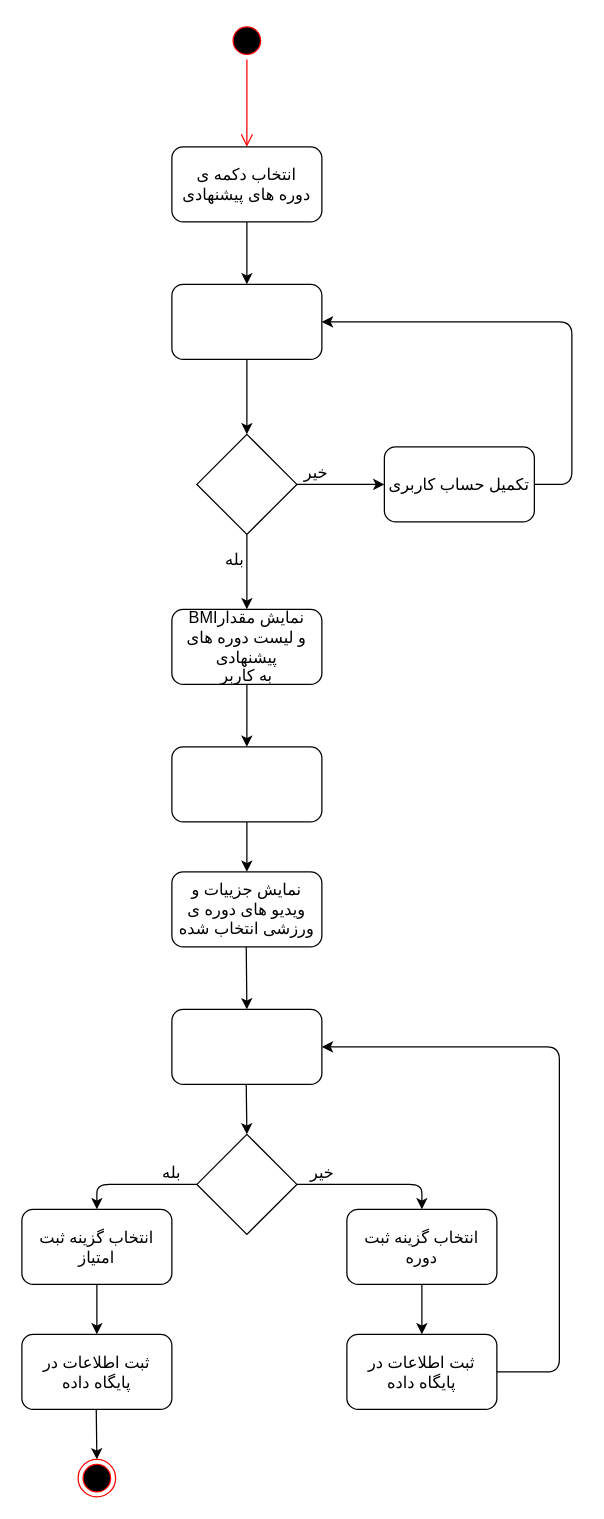
Some shapes in this 604 by 1519 pixel diagram are drawn without their labels. The centre of each missing label's shape, as x and y in pixels:
"انتخاب دوره ورزشی مورد نظر" goes at point 246,784.
"بررسی اینکه دوره قبلا برای کاربر ثبت شده یا خیر" goes at point 246,1046.
"بررسی کامل بودن اطلاعات حساب کاربری کاربر" goes at point 246,321.
